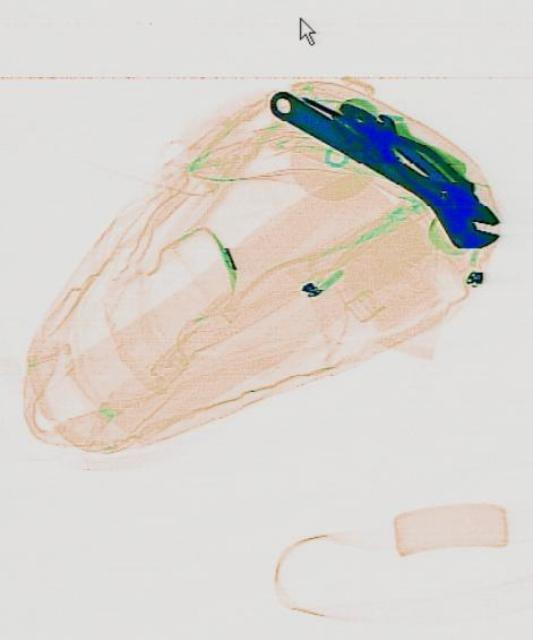Pliers: (326, 84, 477, 216)
Wrench: (262, 69, 507, 264)
